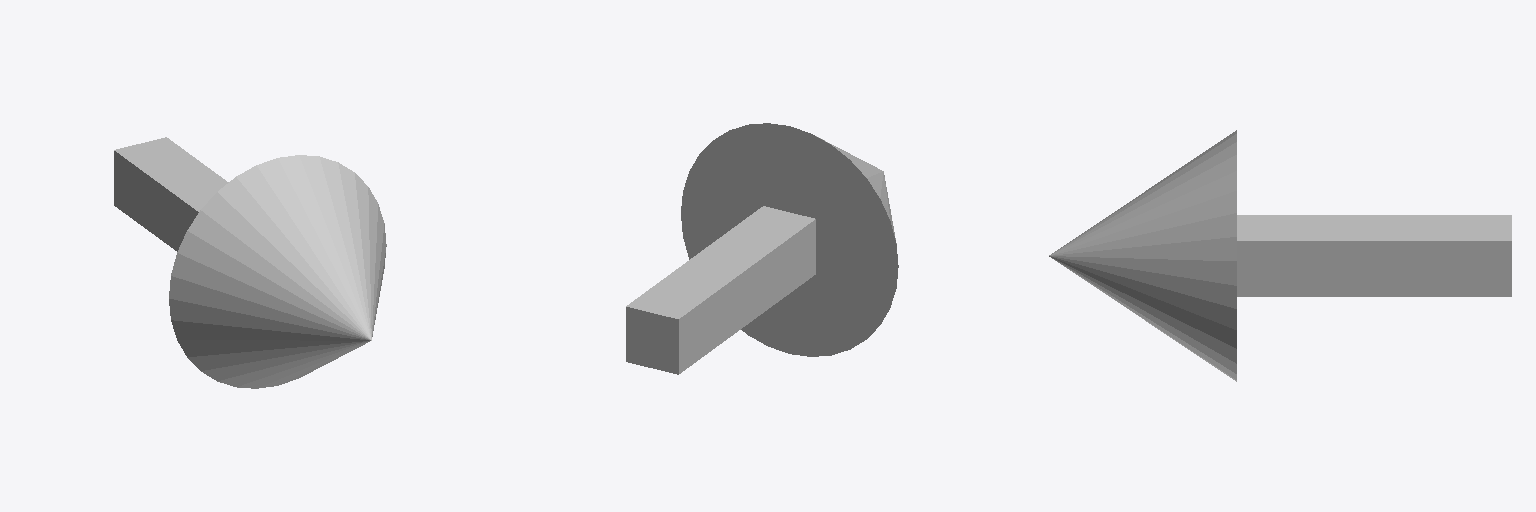
Rendered from arrow.obj.
The picture shows the model from 3 angles: view 1: azimuth 30°, elevation 25°; view 2: azimuth 150°, elevation 25°; view 3: azimuth 270°, elevation 25°; orthographic projection.
Parts seen in each view (by area): view 1: Cube; view 2: Cube; view 3: Cube.
Part boxes in pixels (x1,y1,x2,y2): Cube: (114, 137, 386, 388); Cube: (626, 123, 898, 374); Cube: (1049, 130, 1511, 381).
Bounding box in the file's own units: 4 × 4 × 7.36.